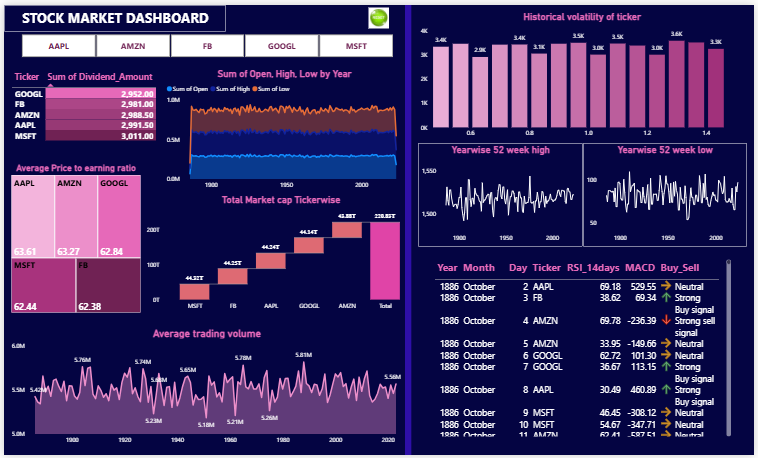

Layout of this report page (visuals, bound fields, positions):
{"tool":"tableau","page":{"name":"Main Dash","canvas":[1000,1000],"units":"permille","ordinal":1},"visuals":[{"type":"title","box":[9.7,22.3,980.6,48]},{"type":"filter","title":"Average trading volume","param":"[federated.0qdm5h70ljqjqr180zify1s4jj2j].[none:Ticker:nk]","box":[11.3,24,144.6,44.5]},{"type":"dashboard-object","box":[734.3,24,153,39.4]},{"type":"blank","box":[9.7,70.2,245.1,226.8]},{"type":"blank","box":[254.8,70.2,245.2,226.8]},{"type":"blank","box":[499.9,70.2,490.4,479.4]},{"type":"worksheet","title":"Sum of Dividend Amount","mark":"Square","rows":["Ticker"],"box":[260.6,73.6,232.9,210.6]},{"type":"worksheet","title":"Marketcap over the period","mark":"Square","rows":["Ticker"],"box":[16.4,82.2,231.2,198.6]},{"type":"worksheet","title":"Most volatile stocks over the period","mark":"Line","rows":["Ticker","Beta"],"cols":["Date"],"box":[507.4,82.2,474.5,465.8]},{"type":"blank","box":[9.7,297,136.3,226.9]},{"type":"blank","box":[146,297,147.6,226.9]},{"type":"blank","box":[293.7,297,103.2,226.9]},{"type":"blank","box":[396.8,297,103.1,226.9]},{"type":"worksheet","title":"Highest price in the period","mark":"Automatic","box":[300.4,308.2,90.9,202.1]},{"type":"worksheet","title":"Lowest price in the period","mark":"Automatic","box":[402.6,308.2,90.9,203.8]},{"type":"parameter","param":"[Parameters].[Parameter 2]","box":[17.3,345.9,121.2,119.9]},{"type":"parameter","param":"[Parameters].[Parameter 3]","box":[163.6,347.6,121.2,119.9]},{"type":"blank","box":[9.7,523.9,353.5,453.9]},{"type":"blank","box":[363.2,523.9,136.8,453.9]},{"type":"legend","title":"Average trading volume","param":"[federated.0qdm5h70ljqjqr180zify1s4jj2j].[none:Ticker:nk]","box":[19.1,537.7,336.8,73.6]},{"type":"worksheet","title":"Price to equity ratio","mark":"Automatic","box":[370.6,537.7,121.2,424.7]},{"type":"blank","box":[499.9,549.6,490.4,428.1]},{"type":"worksheet","title":"Signals based on RSI and MACD","mark":"Automatic","rows":["Date","RSI (14 days)","MACD"],"box":[505.6,559.9,476.2,402.4]},{"type":"worksheet","title":"Average trading volume","mark":"Area","rows":["Volume"],"cols":["Date"],"box":[17.3,631.9,339.4,332.2]}]}

Visuals, with their boxes on the dashboard's canvas, which has no fixed pixel size, in thousandths of its width and height (x1, y1, x2, y2). These are canvas units, not pixel positions in the 758x458 screenshot, which may show the page scaled, cropped or inside an application window:
title: region(10, 22, 990, 70)
"Average trading volume" filter: region(11, 24, 156, 68)
dashboard-object: region(734, 24, 887, 63)
blank: region(10, 70, 255, 297)
blank: region(255, 70, 500, 297)
blank: region(500, 70, 990, 550)
"Sum of Dividend Amount" worksheet (Square marks): region(261, 74, 494, 284)
"Marketcap over the period" worksheet (Square marks): region(16, 82, 248, 281)
"Most volatile stocks over the period" worksheet (Line marks): region(507, 82, 982, 548)
blank: region(10, 297, 146, 524)
blank: region(146, 297, 294, 524)
blank: region(294, 297, 397, 524)
blank: region(397, 297, 500, 524)
"Highest price in the period" worksheet: region(300, 308, 391, 510)
"Lowest price in the period" worksheet: region(403, 308, 494, 512)
parameter: region(17, 346, 138, 466)
parameter: region(164, 348, 285, 468)
blank: region(10, 524, 363, 978)
blank: region(363, 524, 500, 978)
"Average trading volume" legend: region(19, 538, 356, 611)
"Price to equity ratio" worksheet: region(371, 538, 492, 962)
blank: region(500, 550, 990, 978)
"Signals based on RSI and MACD" worksheet: region(506, 560, 982, 962)
"Average trading volume" worksheet (Area marks): region(17, 632, 357, 964)
